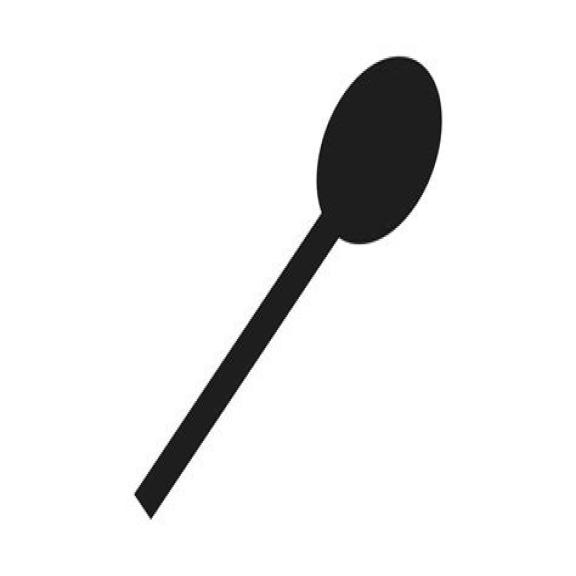Plastik: (137, 57, 441, 517)
